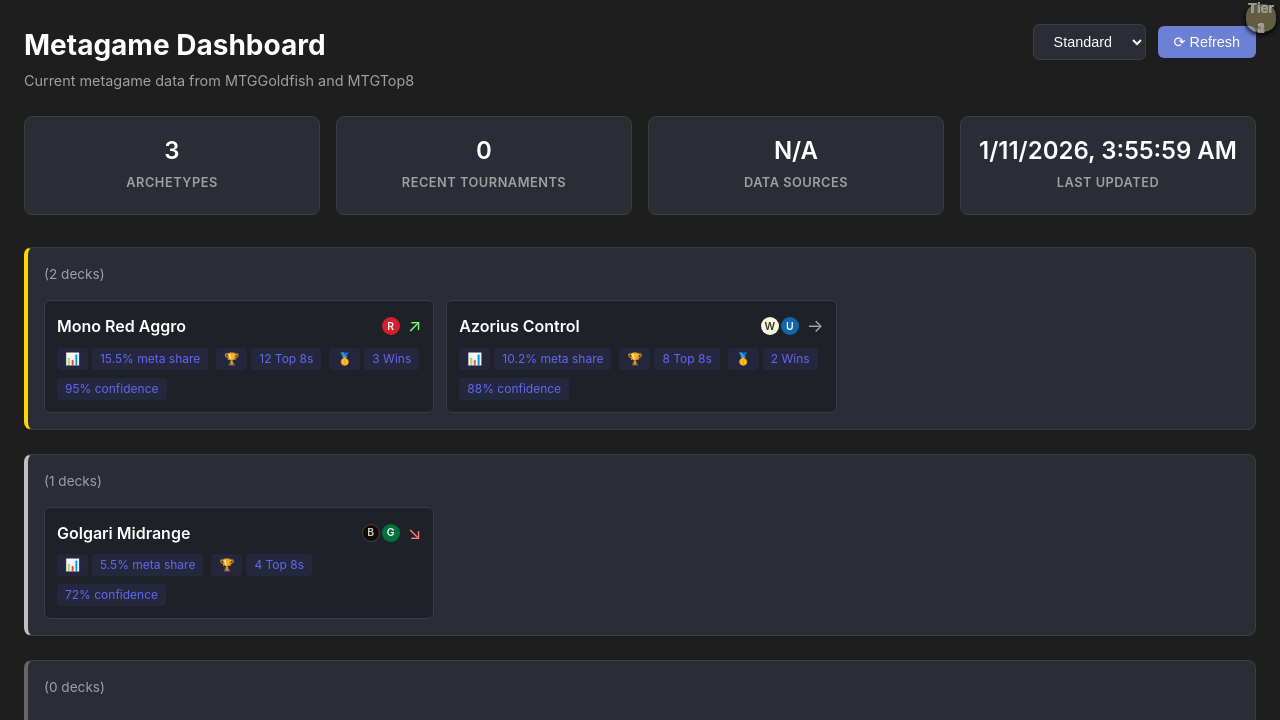
Test case: Meta › archetype detail view › shows tournament top 8s in detail panel
Expected: the text "Mono Red Aggro" is shown, [57,316,186,336]
Click the button "Mono Red Aggro". click: {"x": 239, "y": 356}
box: [44,300,434,413]
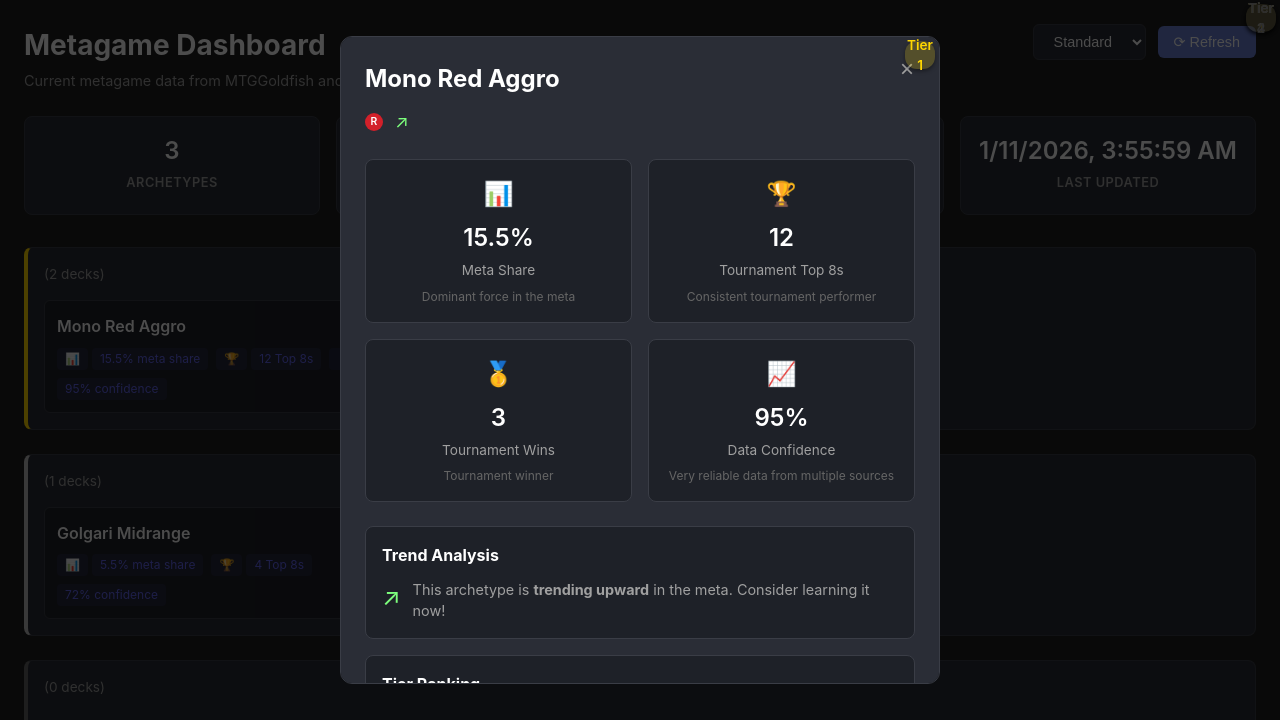
Now the text "Tournament Top 8s" is shown, box [719,262,844,278]
Now the text "12" is shown, box [769,223,794,252]
